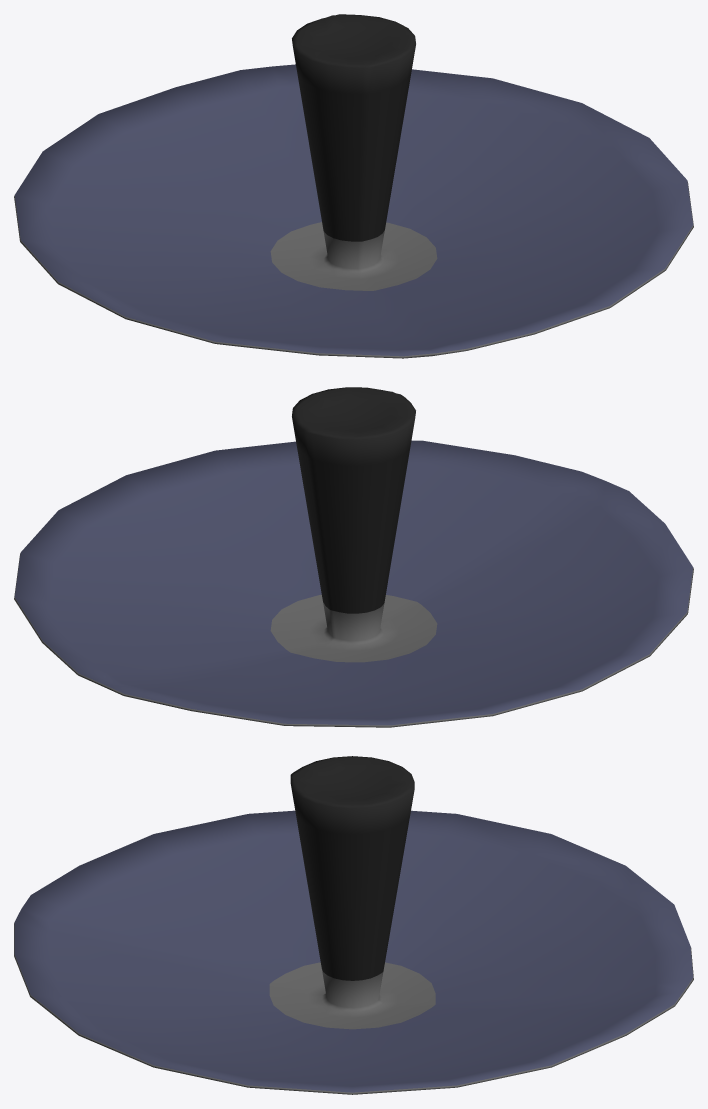
Rendered from tdrsParabDer.obj.
3 renders of one model, top to bottom at view 1: azimuth 30°, elevation 25°; view 2: azimuth 150°, elevation 25°; view 3: azimuth 270°, elevation 25°, orthographic.
Parts seen in each view (by area): view 1: P1_InnerDish, P1_DishMiddle, P1_lambert2; view 2: P1_InnerDish, P1_DishMiddle, P1_lambert2; view 3: P1_InnerDish, P1_DishMiddle, P1_lambert2.
Part boxes in pixels (<box>): P1_InnerDish: <box>14,64,693,356</box>; P1_DishMiddle: <box>292,14,415,241</box>; P1_lambert2: <box>14,181,693,358</box>; P1_InnerDish: <box>14,440,693,725</box>; P1_DishMiddle: <box>292,387,415,613</box>; P1_lambert2: <box>14,553,693,727</box>; P1_InnerDish: <box>14,810,693,1092</box>; P1_DishMiddle: <box>290,756,414,980</box>; P1_lambert2: <box>14,922,693,1094</box>.
Size of the model in its own units: 0.1533 by 0.0566 by 0.1538.
